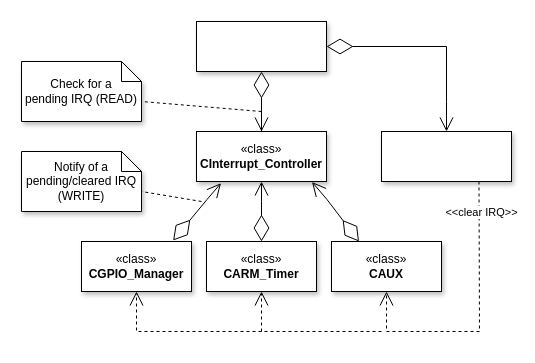
This 535x363 diagram has some shape labels left out. Here are the shapes that lost their labels. From the top down, the centre of each, then its label:
At pixel 262 47: "«class» CARM1176JZF_S".
At pixel 447 157: "«class» CBus".
